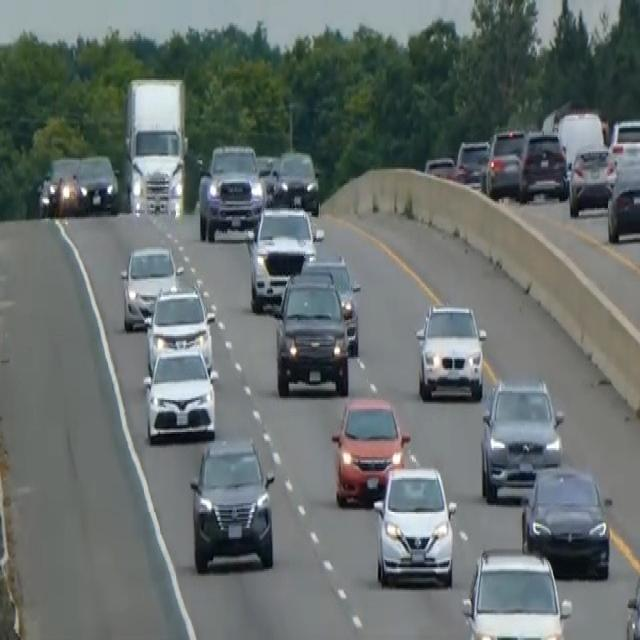car: (189, 434, 275, 572), (479, 375, 564, 501), (520, 462, 612, 578), (461, 546, 572, 638), (273, 272, 350, 396), (330, 393, 410, 507), (246, 205, 321, 311), (142, 343, 216, 443), (414, 300, 486, 402), (197, 140, 264, 242), (143, 283, 215, 373), (300, 252, 361, 356), (119, 244, 182, 330), (518, 128, 568, 203), (567, 144, 616, 217), (271, 148, 320, 214), (483, 126, 526, 199), (606, 158, 639, 242), (75, 151, 119, 213), (39, 155, 82, 215), (608, 116, 639, 172), (455, 137, 490, 185), (54, 171, 83, 215), (254, 153, 279, 203), (625, 562, 639, 638), (424, 153, 455, 179)
lorry: (121, 73, 191, 219), (556, 108, 605, 176)
minivan: (371, 460, 457, 590)
